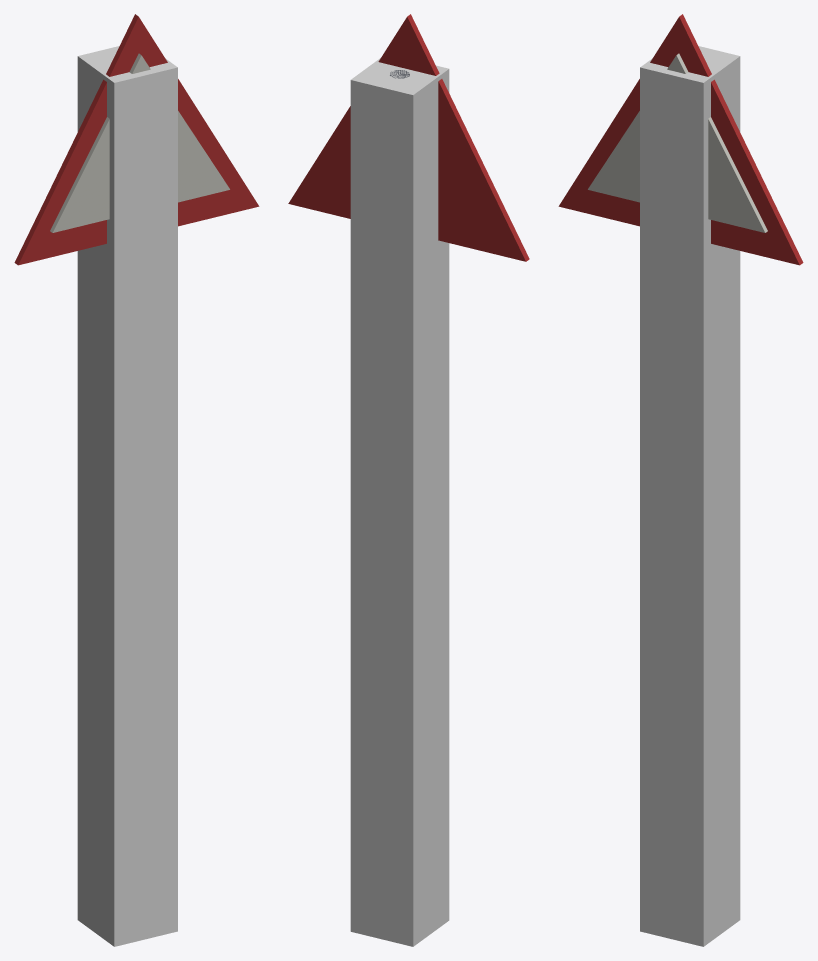
Rendered from sign_yield.glb.
3 views of the same model, side by side, from view 1: azimuth 30°, elevation 25°; view 2: azimuth 150°, elevation 25°; view 3: azimuth 330°, elevation 25° (orthographic).
Visible parts, largest first — view 1: sign_yield-col, sign_yield_mesh; view 2: sign_yield-col, sign_yield_mesh; view 3: sign_yield-col, sign_yield_mesh.
Part boxes in pixels (x1,y1,x2,y2): sign_yield-col: (77, 46, 177, 946); sign_yield_mesh: (14, 14, 259, 265); sign_yield-col: (350, 58, 449, 946); sign_yield_mesh: (288, 14, 529, 261); sign_yield-col: (640, 46, 740, 946); sign_yield_mesh: (558, 14, 803, 265).
Size of the model in its own units: 0.76 by 2.76 by 0.2.
